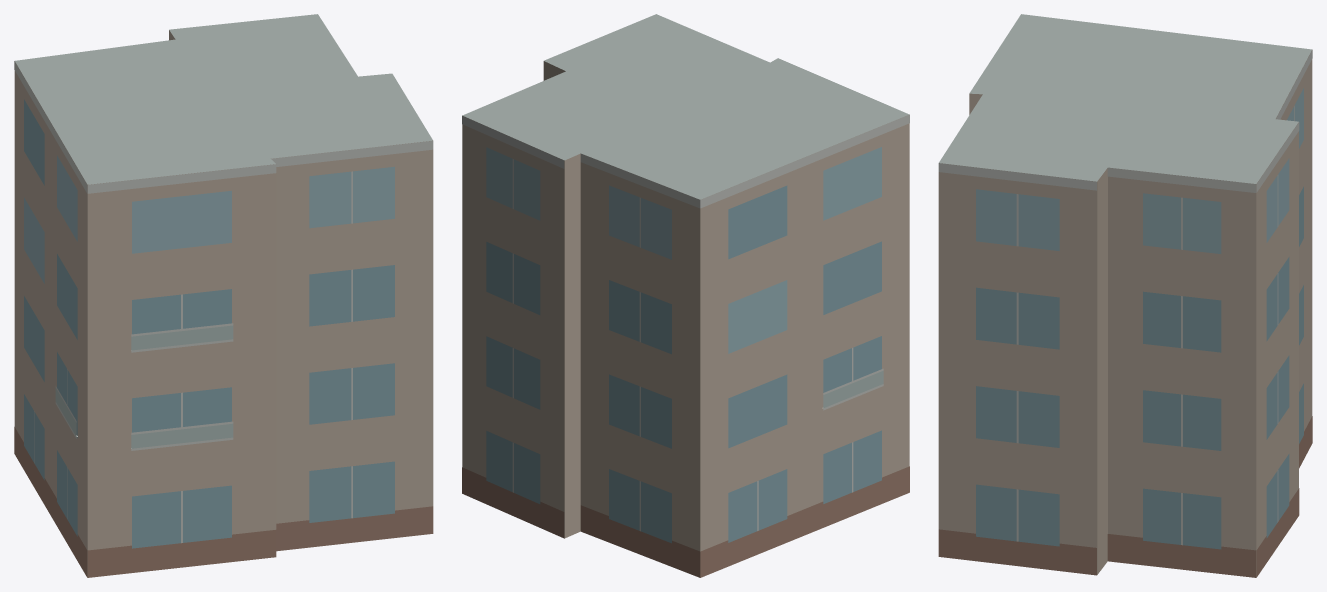
The model's file is survey-upis-33008944.glb.
3 views of the same model, side by side, from view 1: azimuth 30°, elevation 25°; view 2: azimuth 150°, elevation 25°; view 3: azimuth 270°, elevation 25° (orthographic). The views are drawn at different scales.
Visible parts, largest first — view 1: survey-upis-33008944.tmp; view 2: survey-upis-33008944.tmp; view 3: survey-upis-33008944.tmp.
Boxes of the visible parts, <box> form: survey-upis-33008944.tmp: <box>14,14,433,577</box>; survey-upis-33008944.tmp: <box>462,14,909,577</box>; survey-upis-33008944.tmp: <box>938,14,1312,577</box>.
Size of the model in its own units: 9.83 by 10.6 by 9.13.
